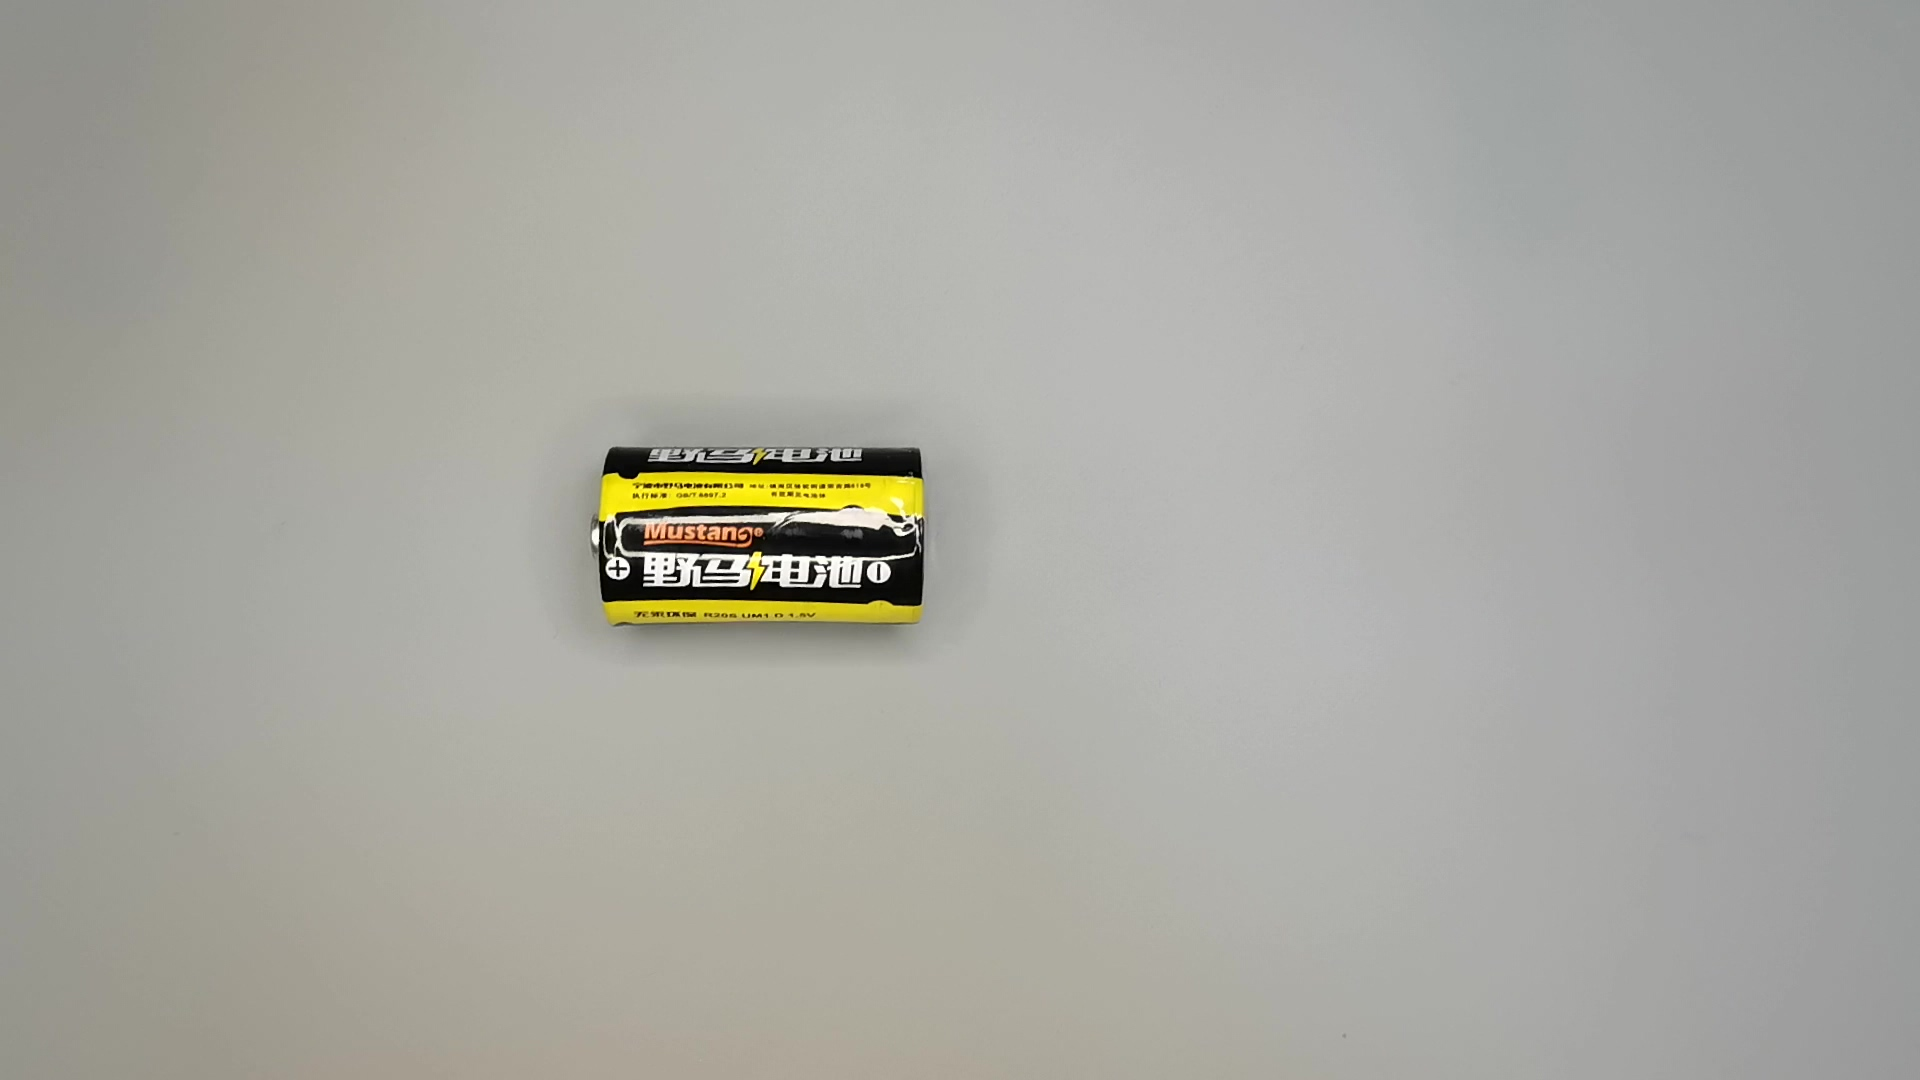battery: (582, 440, 936, 634)
